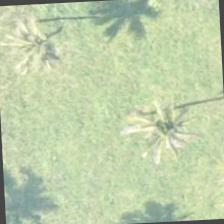Kelapa_Sawit: (118, 72, 213, 168), (0, 2, 81, 95)
